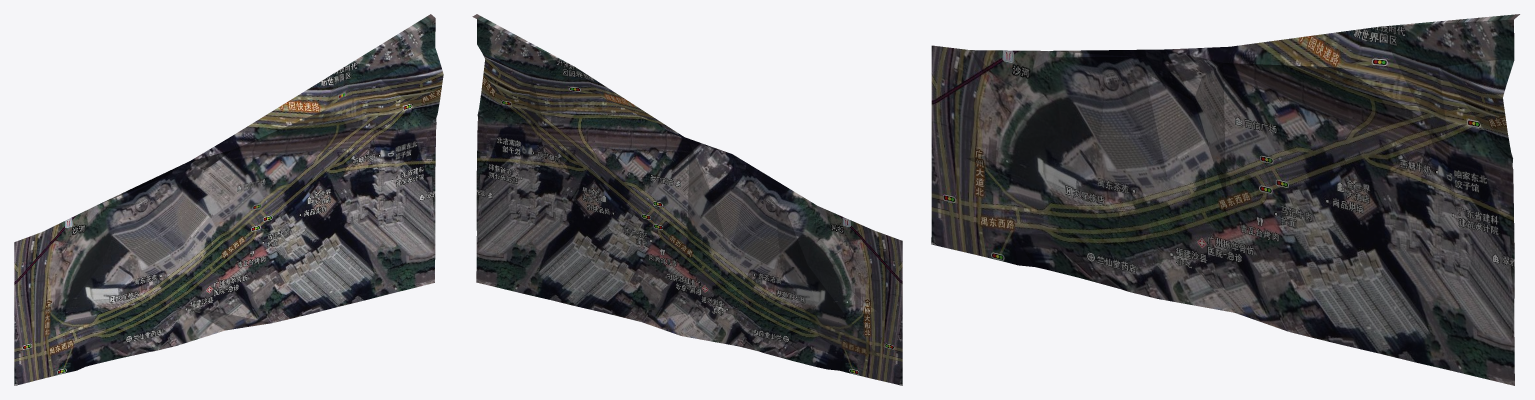
The picture shows the model from 3 angles, left to right: view 1: azimuth 30°, elevation 25°; view 2: azimuth 150°, elevation 25°; view 3: azimuth 330°, elevation 25°; orthographic projection. The views are drawn at different scales.
Parts seen in each view (by area): view 1: 0_1_0_2_3_3; view 2: 0_1_0_2_3_3; view 3: 0_1_0_2_3_3.
Boxes of the visible parts, <box> form: 0_1_0_2_3_3: <box>14,14,443,385</box>; 0_1_0_2_3_3: <box>472,14,902,385</box>; 0_1_0_2_3_3: <box>931,14,1519,385</box>.
Size of the model in its own units: 486 by 293 by 25.51.
Materials: 1 (1 with a texture image).
